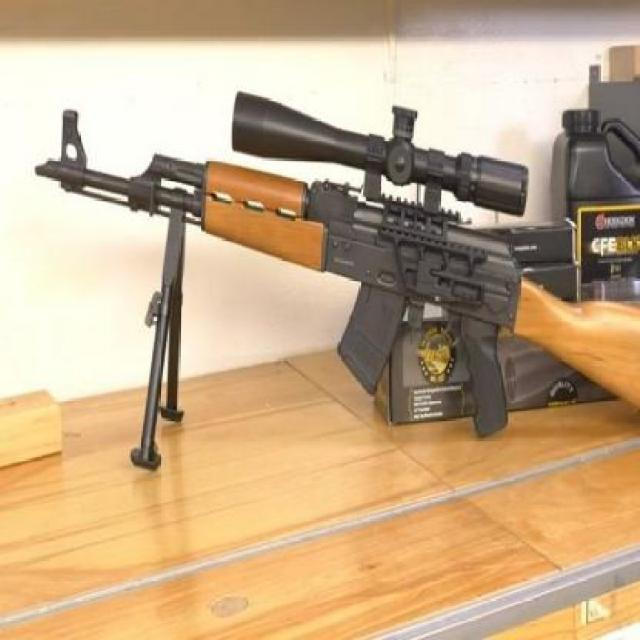Rifle: (8, 20, 636, 569)
